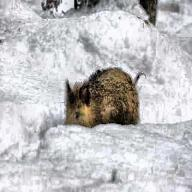boar: (48, 44, 160, 140)
